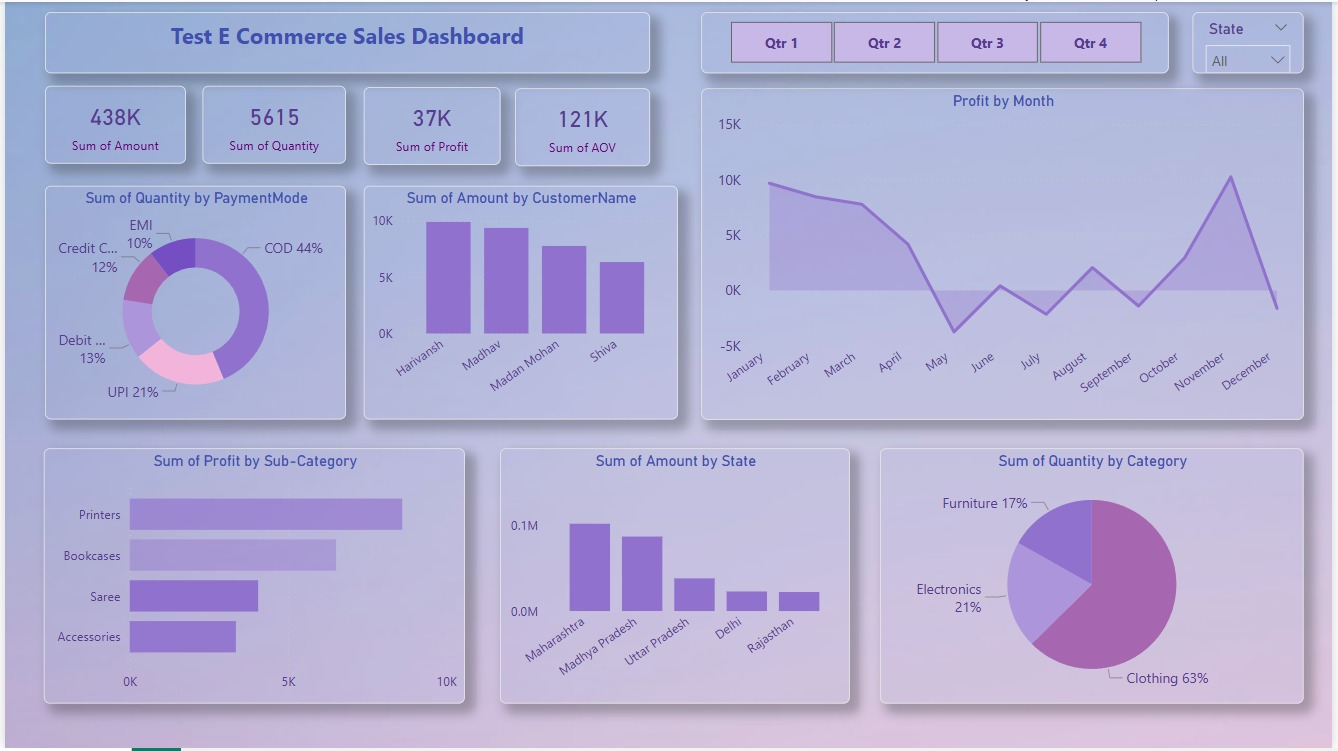

The page's visual inventory and layout, read from the dashboard file:
{"tool":"powerbi","page":{"name":"Page 1","canvas":[1280,720],"ordinal":0},"visuals":[{"type":"textbox","box":[38.6,9.7,583.9,59.1],"z":0},{"type":"areaChart","title":"Profit by Month","fields":{"Category":["Orders.Order Date.Variation.Date Hierarchy.Month"],"Y":["Details.Profit"]},"box":[672,83.2,581.5,319.7],"z":1000},{"type":"clusteredBarChart","fields":{"Category":["Details.Sub-Category"],"Y":["Details.Profit"]},"box":[37.4,430.7,406.6,246.1],"z":2000},{"type":"pieChart","fields":{"Category":["Details.Category"],"Y":["Details.Quantity"]},"box":[844.5,430.7,409,246.1],"z":3000},{"type":"donutChart","fields":{"Category":["Details.PaymentMode"],"Y":["Details.Quantity"]},"box":[38.6,177.3,290.8,225.6],"z":4000},{"type":"card","fields":{"Values":["Details.Amount"]},"box":[38.4,81,135.8,75.5],"z":5000},{"type":"card","fields":{"Values":["Details.Quantity"]},"box":[190.7,81,138.6,75.5],"z":6000},{"type":"card","fields":{"Values":["Details.Profit"]},"box":[345.8,82.3,131.7,75.5],"z":7000},{"type":"card","fields":{"Values":["Details.AOV"]},"box":[492.6,83.7,130.4,75.5],"z":8000},{"type":"columnChart","fields":{"Category":["Orders.State"],"Y":["Details.Amount"]},"box":[477.8,430.7,337.8,246.1],"z":9000},{"type":"columnChart","fields":{"Category":["Orders.CustomerName"],"Y":["Details.Amount"]},"box":[346.2,177.3,302.8,225.6],"z":10000},{"type":"slicer","fields":{"Values":["Orders.Order Date.Variation.Date Hierarchy.Quarter"]},"box":[672,9.7,451.2,59.1],"z":11000},{"type":"slicer","fields":{"Values":["Orders.State"]},"box":[1146.1,9.7,107.4,59.1],"z":12000}]}

Visuals, with their boxes in screenshot pixels (x1, y1, x2, y2), scaled from the page's 1280x720 canvas onto the 1338x751 screenshot:
textbox: 40:10:651:72
"Profit by Month" areaChart: 702:87:1310:420
clusteredBarChart - Details.Sub-Category x Details.Profit: 39:449:464:706
pieChart - Details.Category x Details.Quantity: 883:449:1310:706
donutChart - Details.PaymentMode x Details.Quantity: 40:185:344:420
card - Details.Amount: 40:84:182:163
card - Details.Quantity: 199:84:344:163
card - Details.Profit: 361:86:499:165
card - Details.AOV: 515:87:651:166
columnChart - Orders.State x Details.Amount: 499:449:853:706
columnChart - Orders.CustomerName x Details.Amount: 362:185:678:420
slicer - Orders.Order Date.Variation.Date Hierarchy.Quarter: 702:10:1174:72
slicer - Orders.State: 1198:10:1310:72
